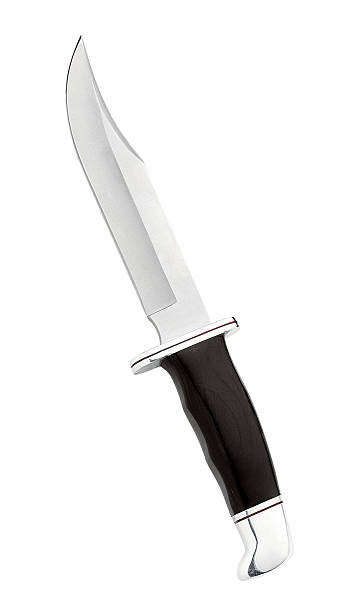knife: (63, 36, 293, 582)
